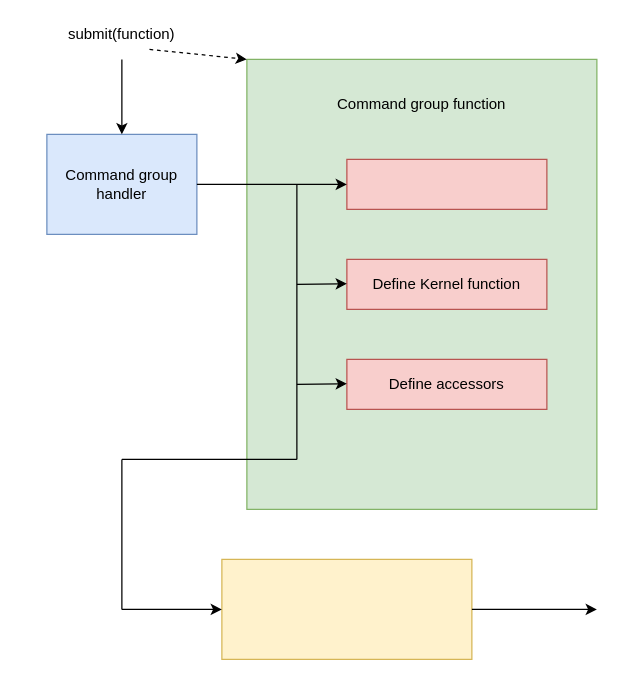
Image size: 629x681. Some labels were removed from this diagram. Here are the shapes that lost their labels. From the top down, the centre of each, then its label:
At (x=446, y=183): "Define Dependencies".
At (x=346, y=608): "Command group".
